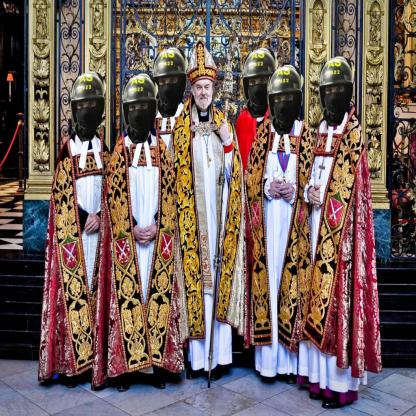face: (325, 76, 350, 114), (273, 89, 299, 122), (160, 71, 182, 107), (247, 72, 271, 105), (130, 99, 153, 133), (78, 98, 100, 131), (193, 81, 214, 109)
